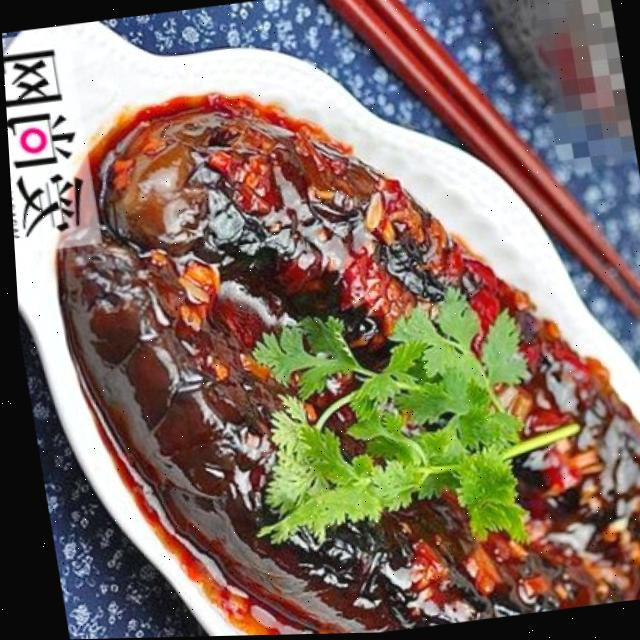鸡蛋料理: (18, 4, 640, 640)
